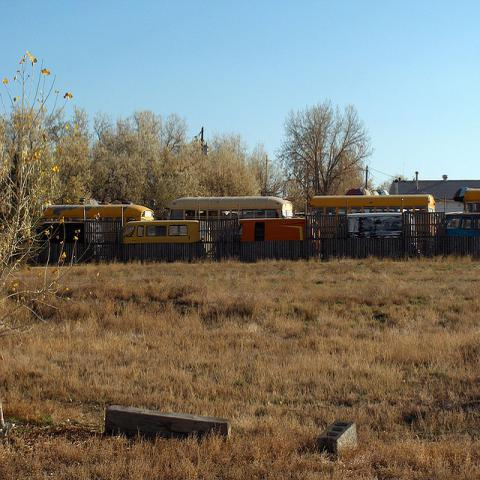bus: (310, 194, 437, 237), (166, 195, 295, 220), (42, 206, 154, 222), (453, 187, 479, 214)
car: (348, 212, 403, 238), (445, 211, 479, 238)
